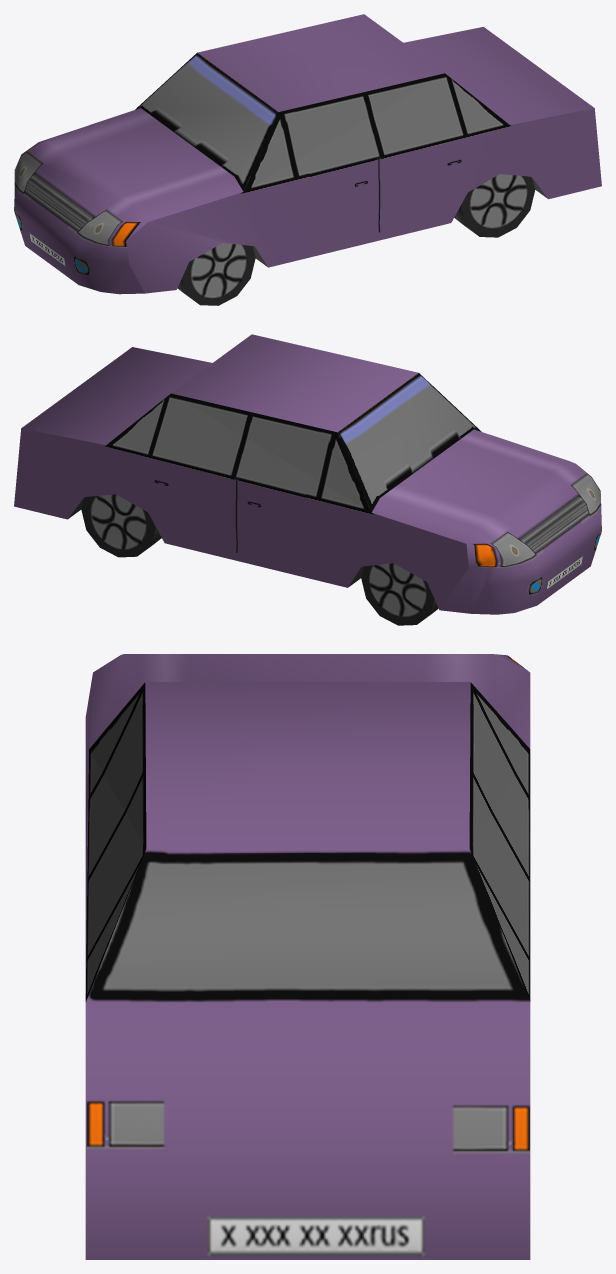
3 renders of one model, top to bottom at view 1: azimuth 30°, elevation 25°; view 2: azimuth 150°, elevation 25°; view 3: azimuth 270°, elevation 25°, orthographic. The views are drawn at different scales.
Parts seen in each view (by area): view 1: pickup; view 2: pickup; view 3: pickup.
Part boxes in pixels (x1,y1,x2,y2): pickup: [14, 14, 601, 305]; pickup: [14, 334, 601, 625]; pickup: [85, 654, 530, 1259].
Bounding box in the file's own units: 132 × 42.14 × 50.74.
